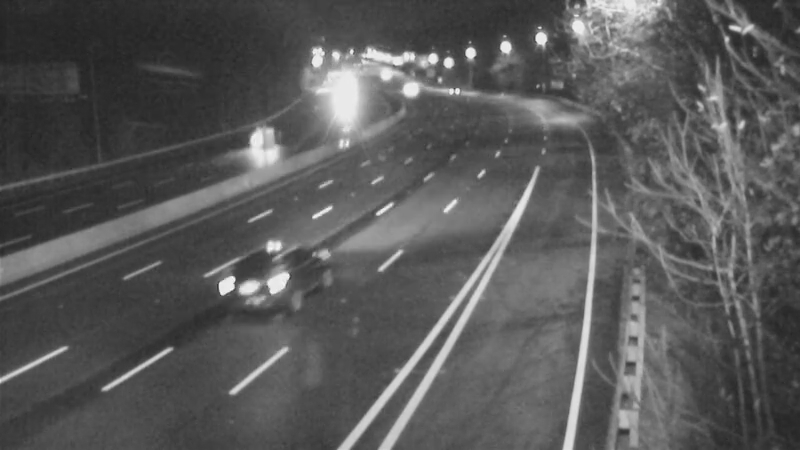vehicle: (214, 243, 294, 323), (420, 66, 470, 116), (379, 61, 429, 111), (228, 119, 278, 169), (318, 76, 368, 126)
